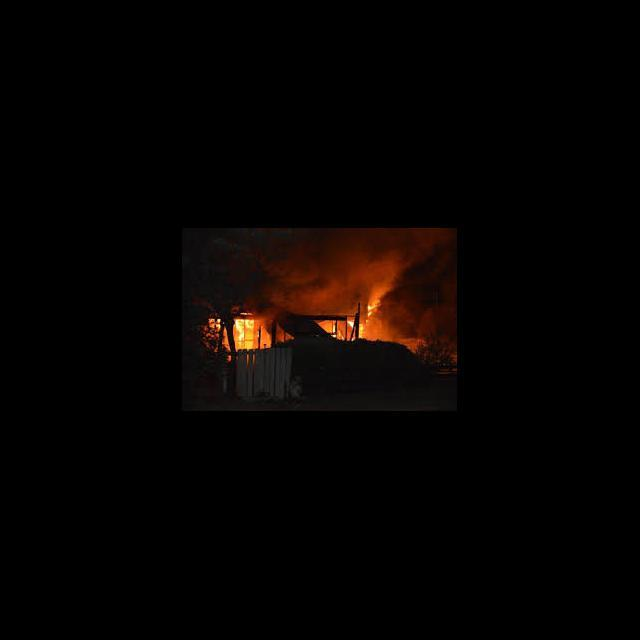Fire: (309, 296, 380, 342), (208, 310, 260, 352)
